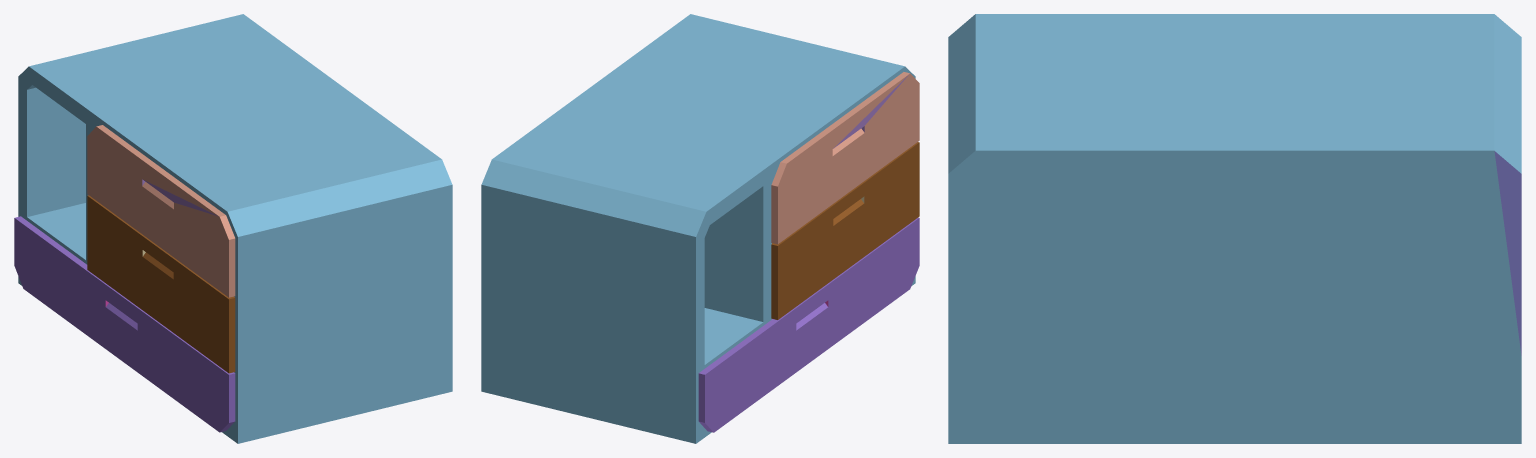
Rendered from komod.fbx.
3 views of the same model, side by side, from view 1: azimuth 30°, elevation 25°; view 2: azimuth 150°, elevation 25°; view 3: azimuth 270°, elevation 25° (orthographic). The views are drawn at different scales.
Visible parts, largest first — view 1: 000-0-2; view 2: 000-0-2; view 3: 000-0-2.
Part boxes in pixels (bbox=[...]): 000-0-2: bbox=[14, 14, 452, 443]; 000-0-2: bbox=[481, 14, 919, 443]; 000-0-2: bbox=[948, 14, 1521, 443].
Bounding box in the file's own units: 48.08 × 46.67 × 82.66.
